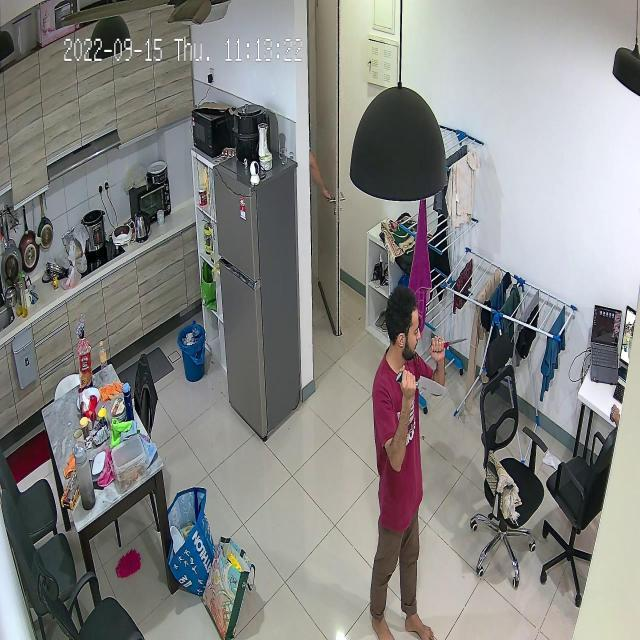Knife: (396, 370, 456, 402), (431, 327, 474, 358)
